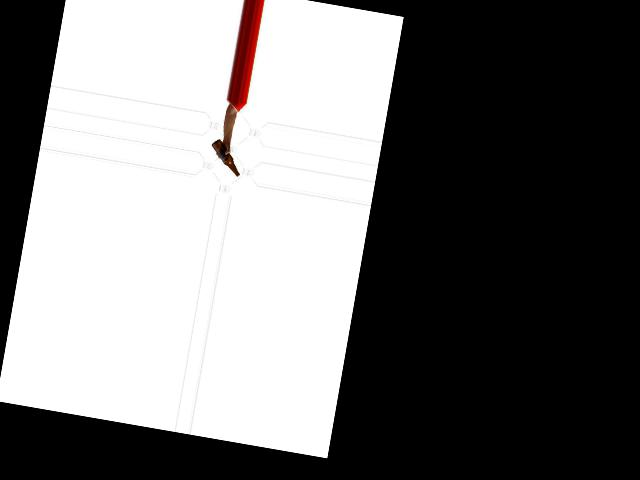beer: (206, 138, 244, 176)
